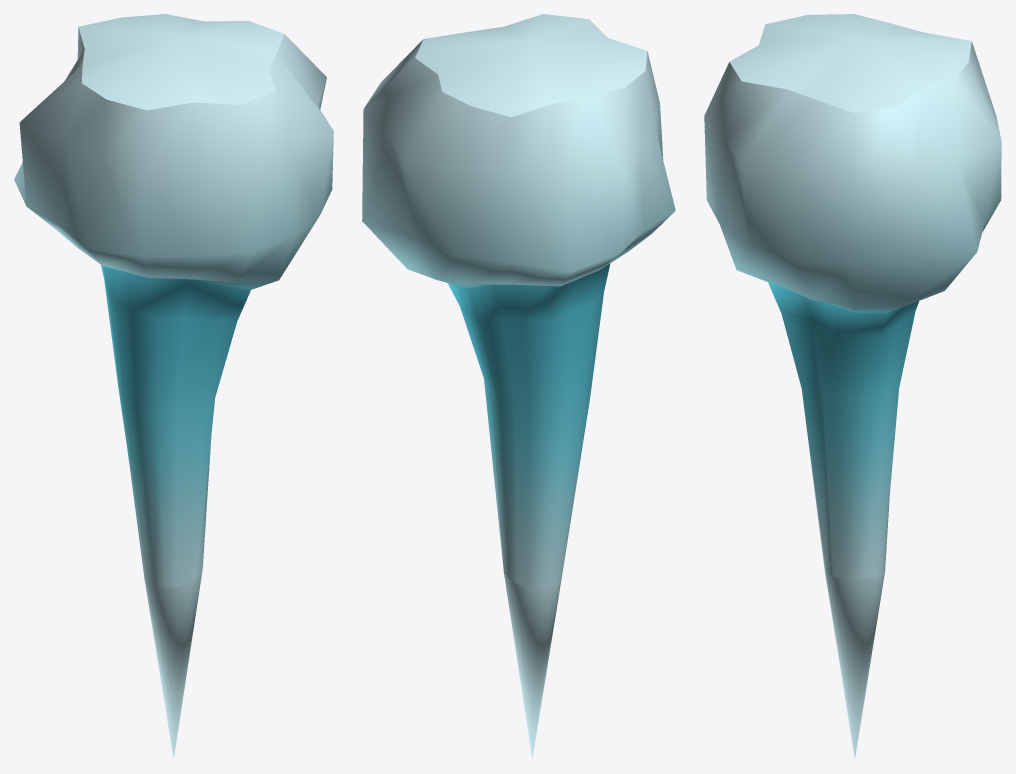
Rendered from Prop_Icicle_A.fbx.
3 views of the same model, side by side, from view 1: azimuth 30°, elevation 25°; view 2: azimuth 150°, elevation 25°; view 3: azimuth 270°, elevation 25° (orthographic).
Visible parts, largest first — view 1: Prop_Icicle_A; view 2: Prop_Icicle_A; view 3: Prop_Icicle_A.
Part boxes in pixels (x1,y1,x2,y2): Prop_Icicle_A: (14,14,333,758); Prop_Icicle_A: (362,14,675,758); Prop_Icicle_A: (704,14,1001,758).
Bounding box in the file's own units: 28.27 × 70.53 × 26.26.
Materials: 1 (1 with a texture image).
